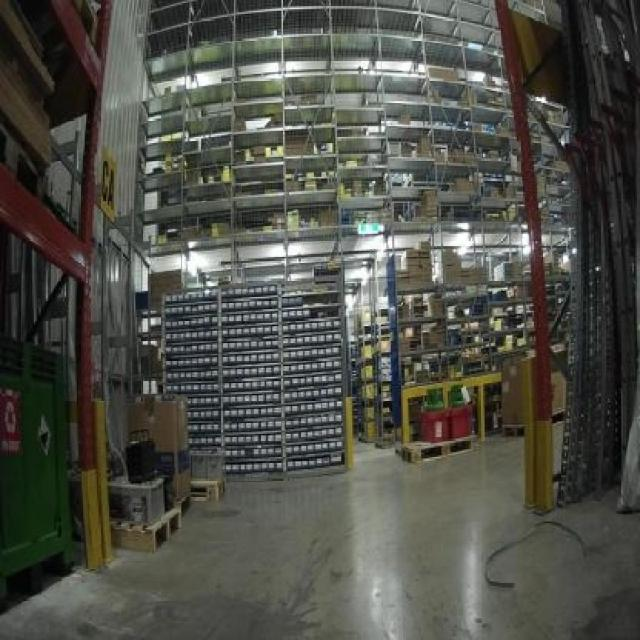floor: (0, 435, 637, 637)
pallets: (163, 283, 340, 471), (0, 337, 69, 591)
